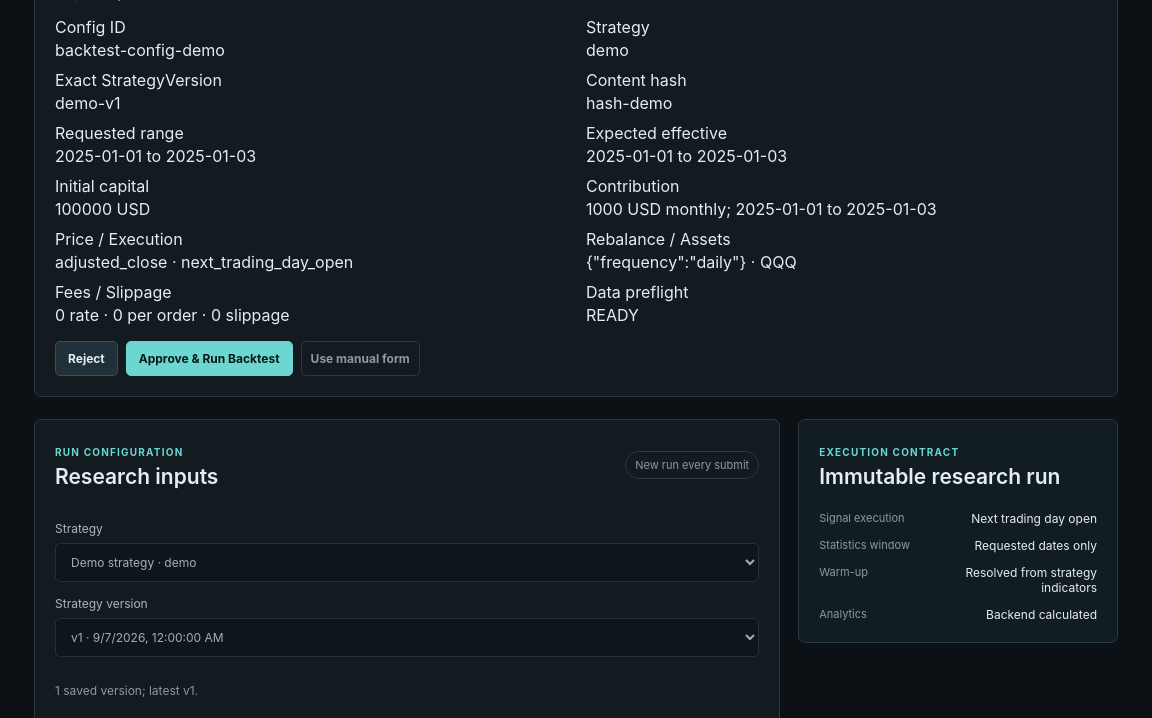
Test case: Backtest Lab › executes only through the browser approve-and-run endpoint
(page scrolled)
Step 1. Click the button "Approve & Run Backtest" → click(209, 358), box [126,341,293,376]
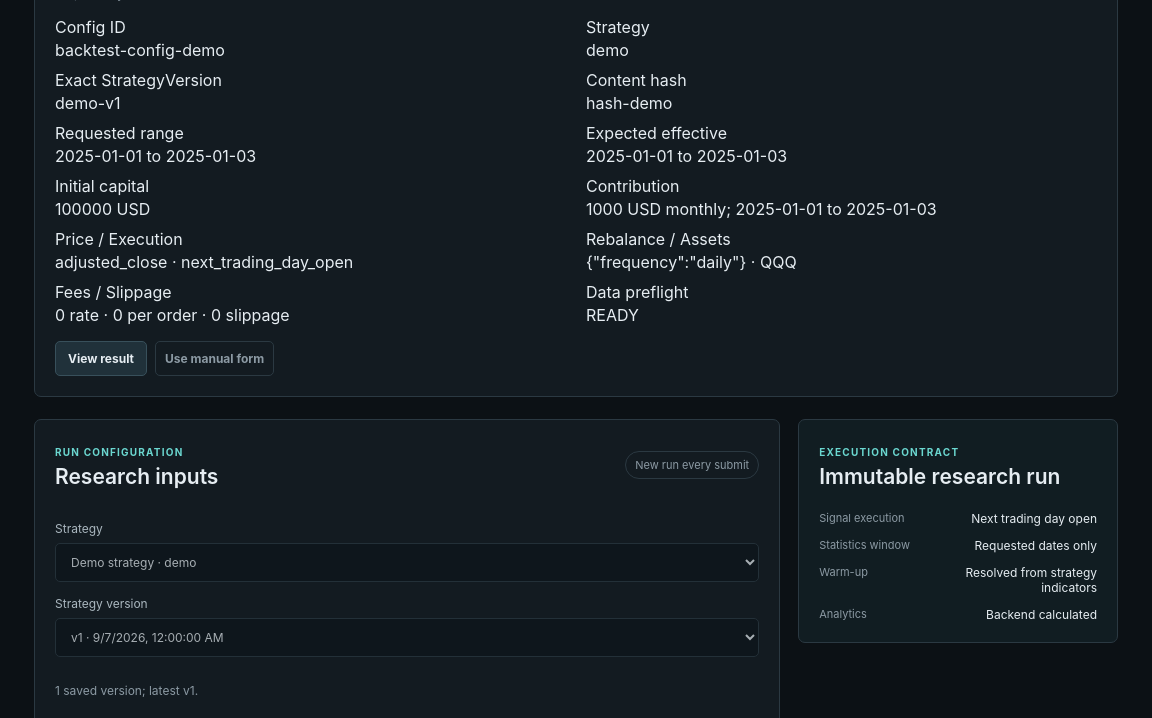
Result: the button "View result" is shown at [55,341,147,376]
